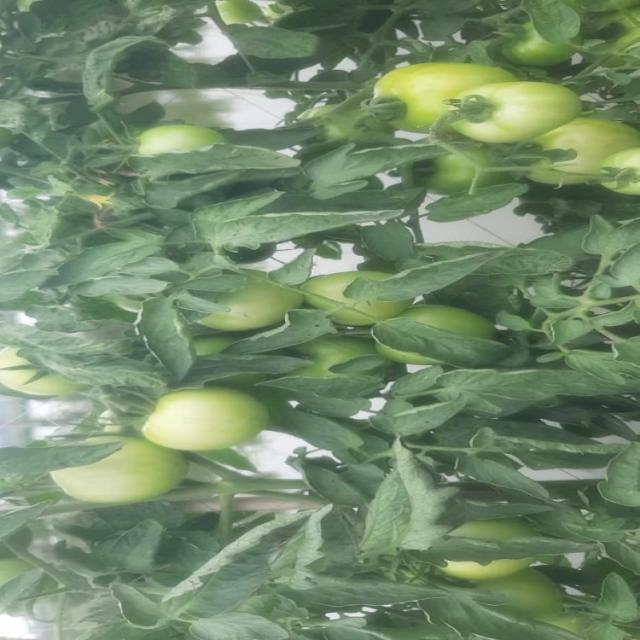tomato: (371, 48, 512, 125), (42, 437, 187, 507), (440, 79, 590, 146), (136, 376, 248, 449), (527, 116, 624, 186), (300, 264, 407, 325), (196, 266, 296, 330), (134, 108, 227, 165), (383, 292, 500, 337), (3, 335, 67, 402), (442, 533, 522, 584), (296, 328, 372, 376), (598, 147, 640, 200)
